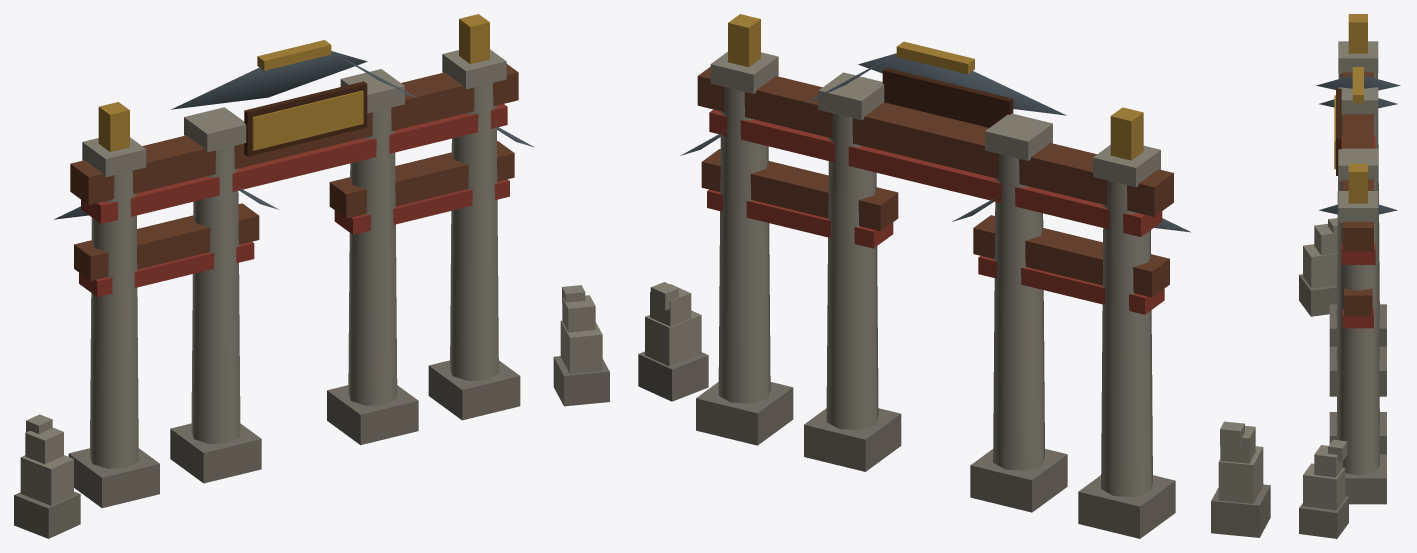
File: tang-paifang.glb
The picture shows the model from 3 angles, left to right: view 1: azimuth 30°, elevation 25°; view 2: azimuth 150°, elevation 25°; view 3: azimuth 270°, elevation 25°; orthographic projection. The views are drawn at different scales.
Visible parts, largest first — view 1: tang-paifang; view 2: tang-paifang; view 3: tang-paifang.
Part boxes in pixels (x1,y1,x2,y2): tang-paifang: (14,14,609,538); tang-paifang: (638,14,1270,538); tang-paifang: (1299,14,1400,538).
Size of the model in its own units: 10.08 by 6.49 by 1.82.
